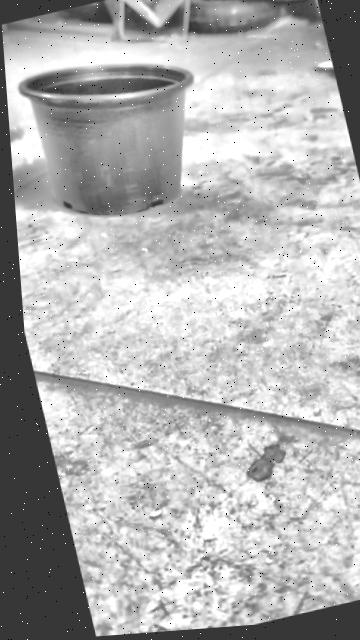pot: (13, 36, 220, 235)
